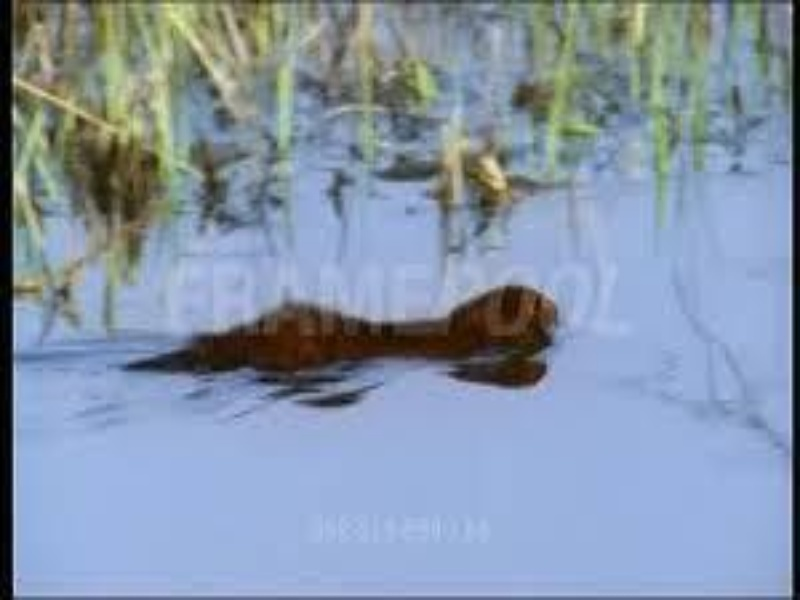minkish: (129, 285, 559, 370)
